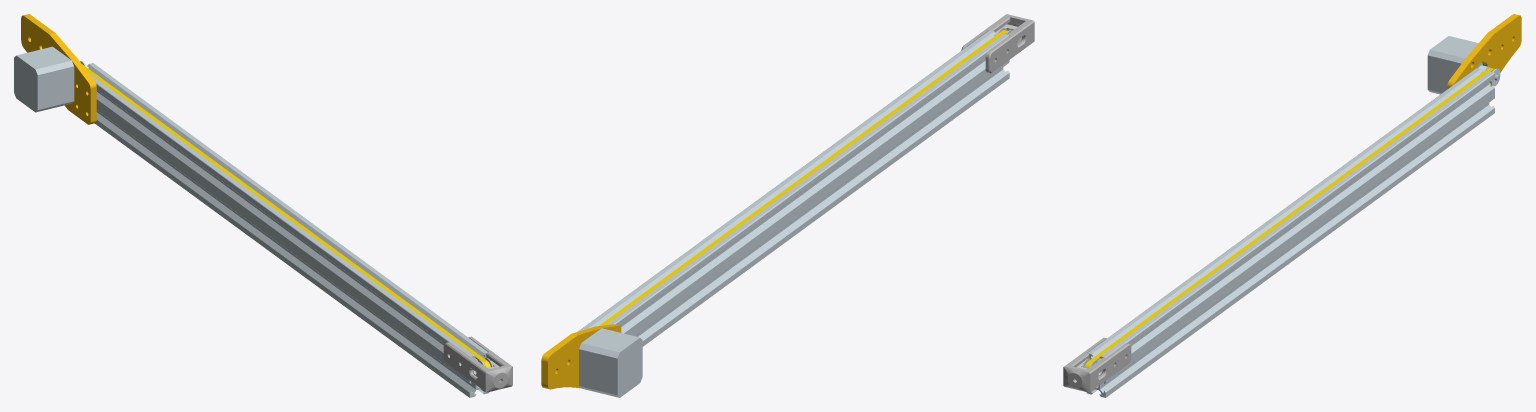
The model's file is LATERAL IZQUIERDO Y.gltf.
3 renders of one model, left to right at view 1: azimuth 30°, elevation 25°; view 2: azimuth 150°, elevation 25°; view 3: azimuth 330°, elevation 25°, orthographic. The views are drawn at different scales.
Visible parts, largest first — view 1: Component31, Laser_Cutter_V2 v36 (×3), Component40; view 2: Component31, Laser_Cutter_V2 v36 (×3), Component40; view 3: Component31, Laser_Cutter_V2 v36 (×3), Component40.
Boxes of the visible parts, left/top/right/bottom form: Component31: left=87, top=63, right=489, bottom=397; Laser_Cutter_V2 v36 (×3): left=21, top=14, right=512, bottom=392; Component40: left=14, top=46, right=74, bottom=112; Component31: left=577, top=30, right=1009, bottom=346; Laser_Cutter_V2 v36 (×3): left=541, top=14, right=1034, bottom=389; Component40: left=579, top=328, right=642, bottom=397; Component31: left=1086, top=68, right=1494, bottom=397; Laser_Cutter_V2 v36 (×3): left=1063, top=14, right=1521, bottom=392; Component40: left=1427, top=36, right=1499, bottom=94.
Bounding box in the file's own units: 0.0675 × 0.0604 × 0.8209.
